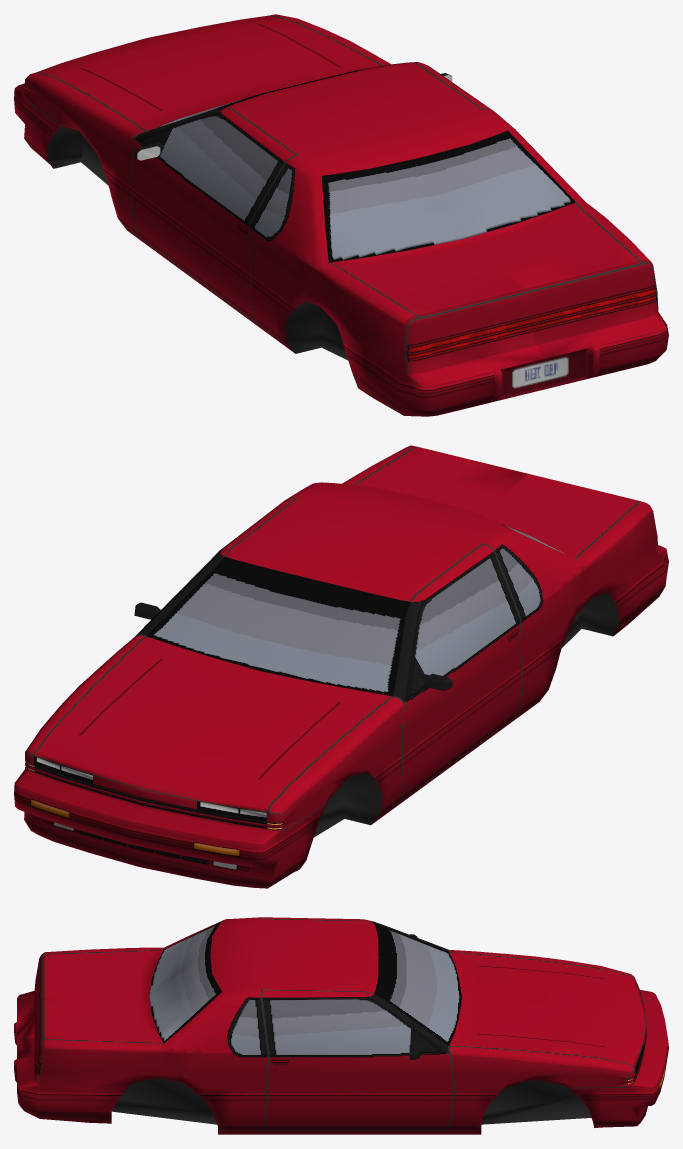
File: 90tornado.fbx
3 renders of one model, top to bottom at view 1: azimuth 30°, elevation 25°; view 2: azimuth 150°, elevation 25°; view 3: azimuth 270°, elevation 25°, orthographic. The views are drawn at different scales.
Parts seen in each view (by area): view 1: 90tornado; view 2: 90tornado; view 3: 90tornado.
Part boxes in pixels (<box>): 90tornado: <box>14,14,668,416</box>; 90tornado: <box>14,445,668,888</box>; 90tornado: <box>14,917,668,1134</box>.
Size of the model in its own units: 2.09 by 1.1 by 4.82.
